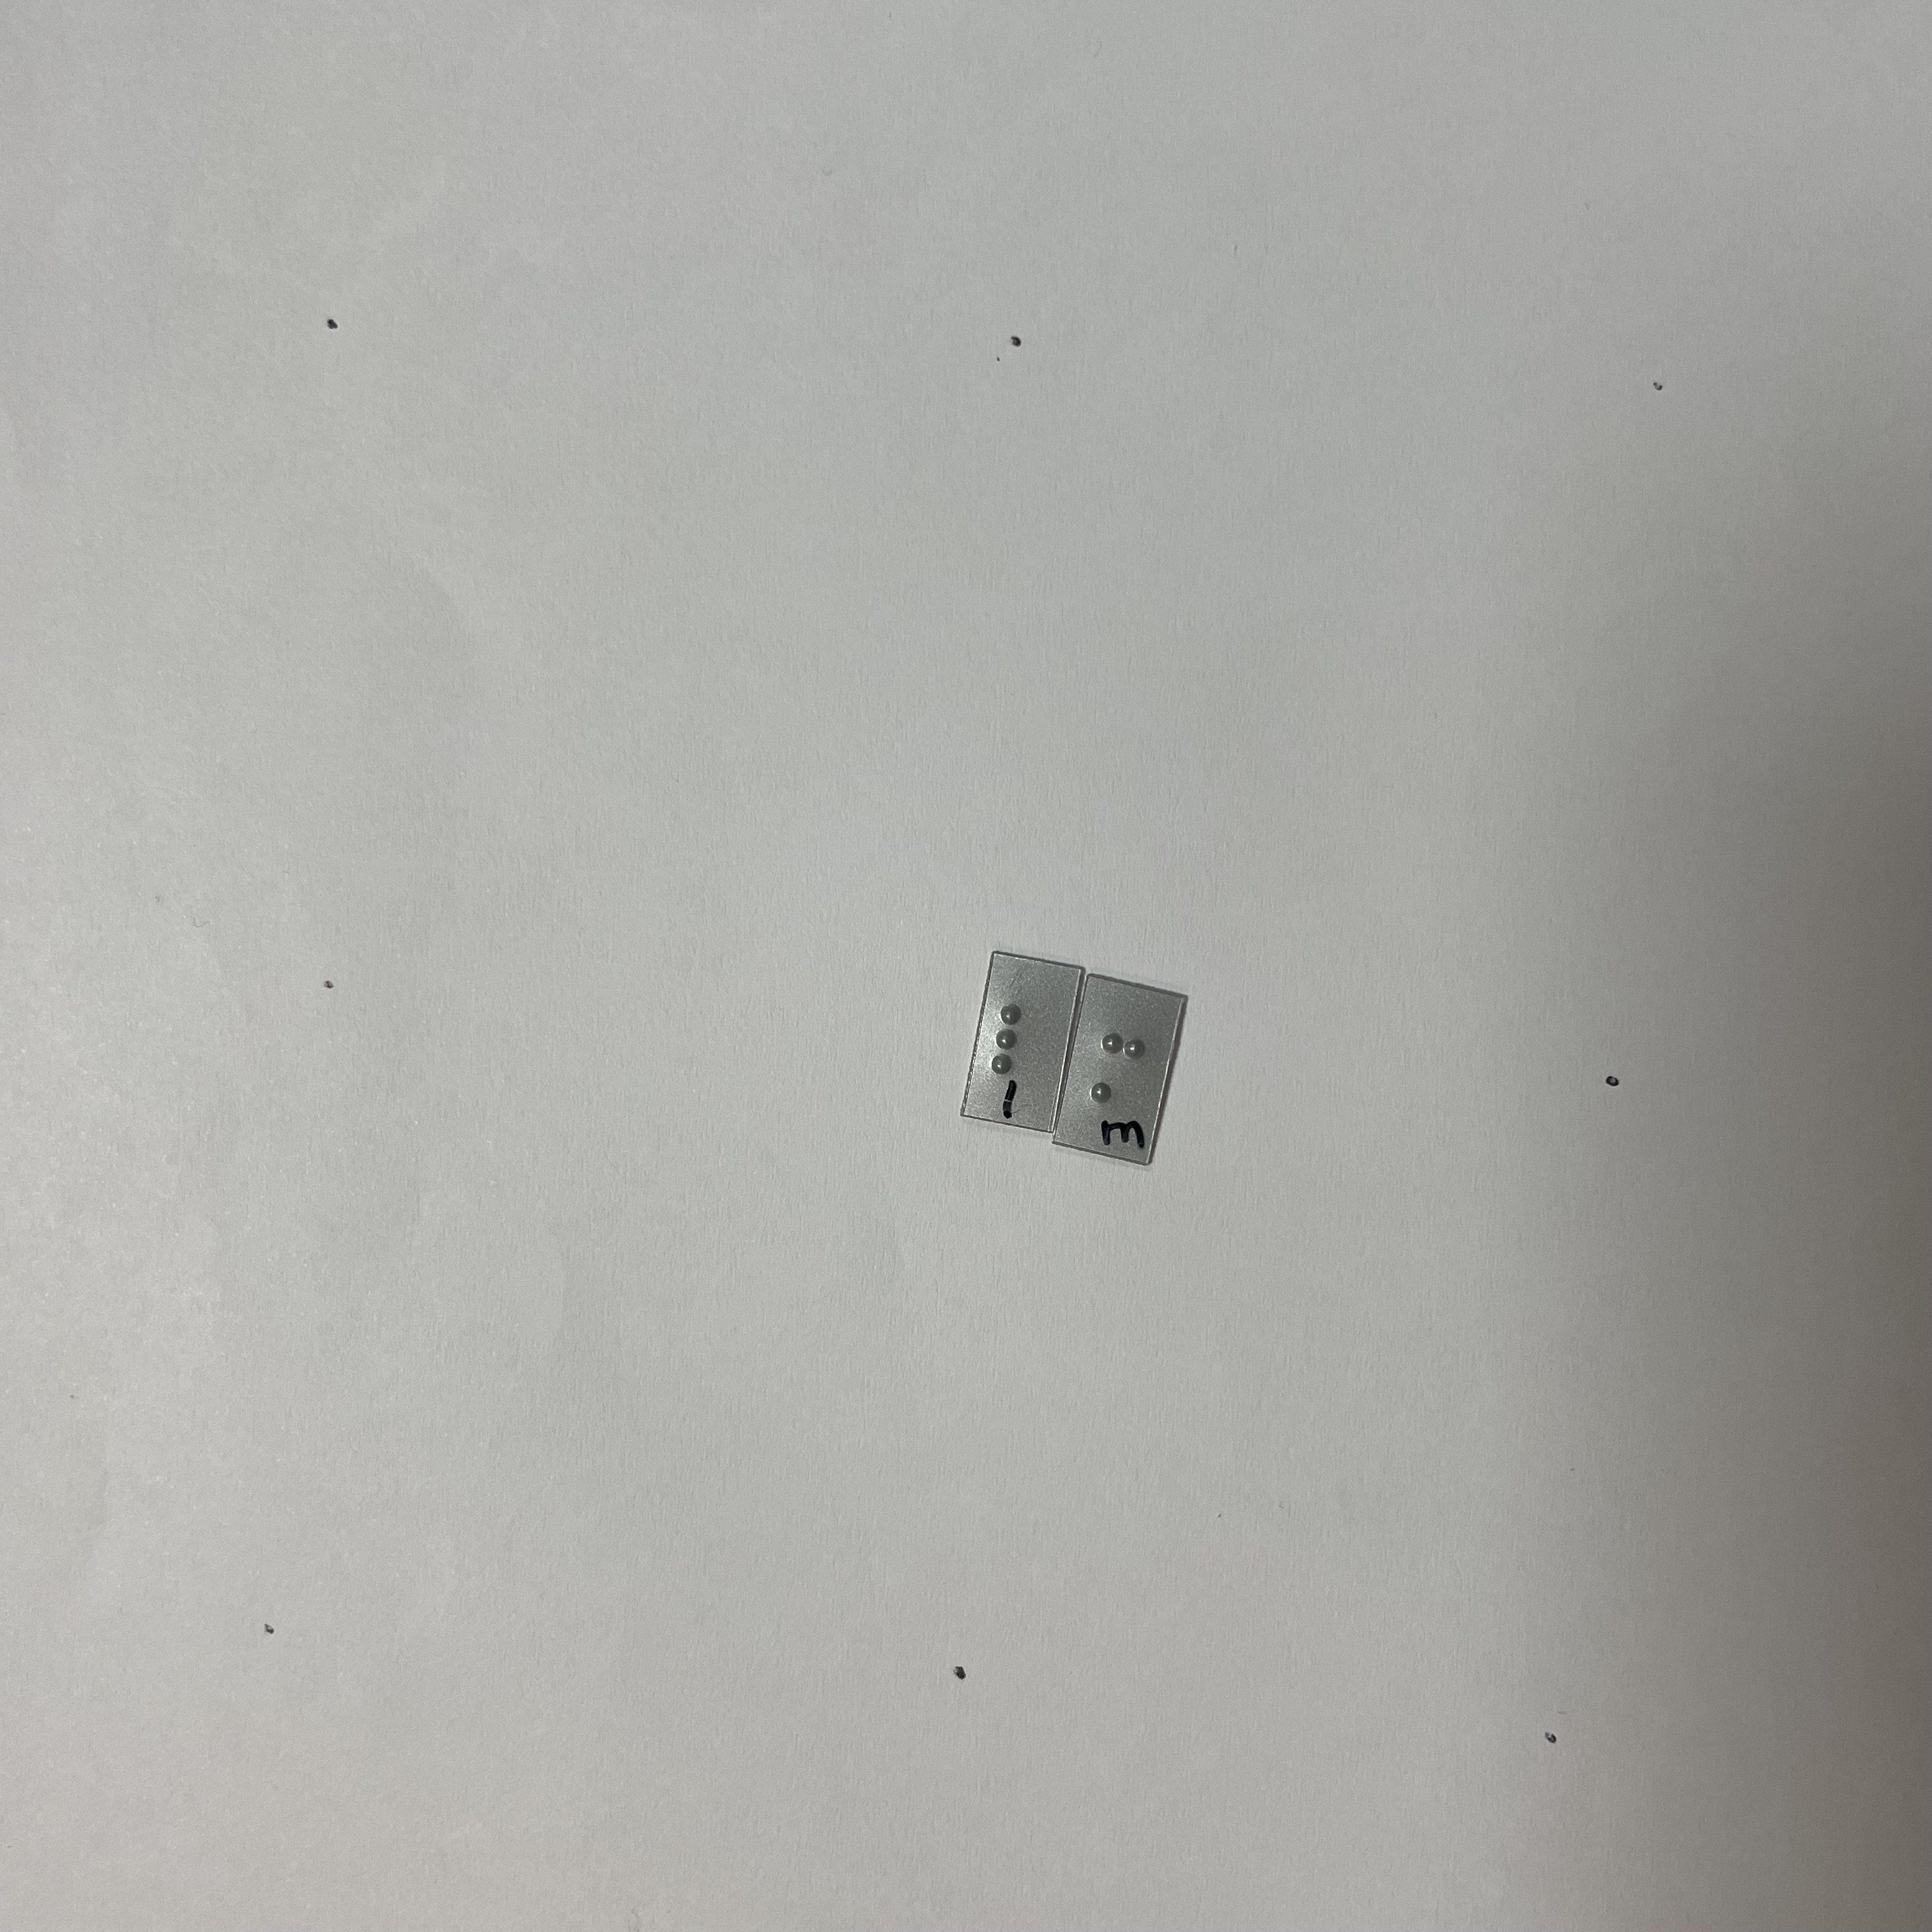l: (992, 994, 1048, 1079)
m: (1089, 1018, 1157, 1117)
